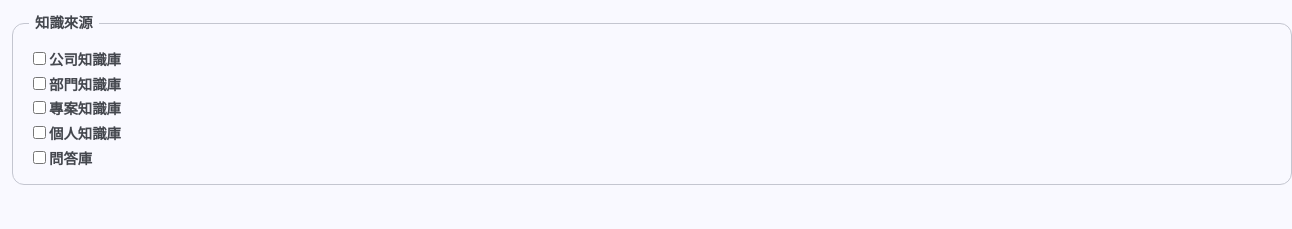
it: KnowledgeSelector (E03-S003/S004) › disables every checkbox while a switch is in flight, preventing a second toggle from racing the first
The width and height of the screenshot is (1292, 229).
Step 1. Click the checkbox labelled "公司知識庫" → (40, 58), box top-left (33, 52), bottom-right (46, 65)
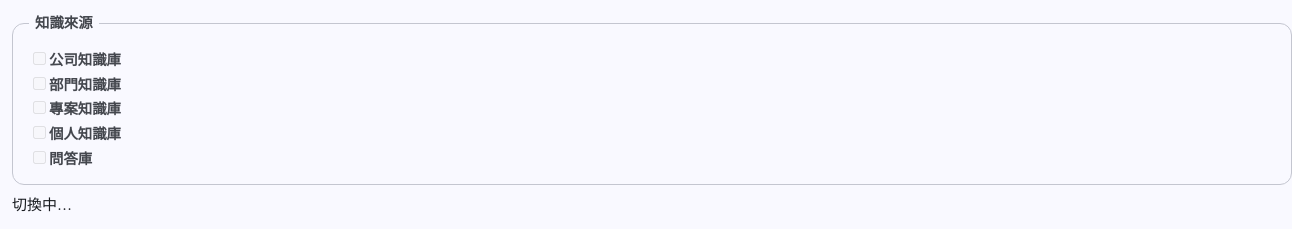
Check: the checkbox labelled "問答庫" is disabled, box top-left (33, 151), bottom-right (46, 164)
Check: the message reads "切換中…", box top-left (12, 197), bottom-right (72, 213)
